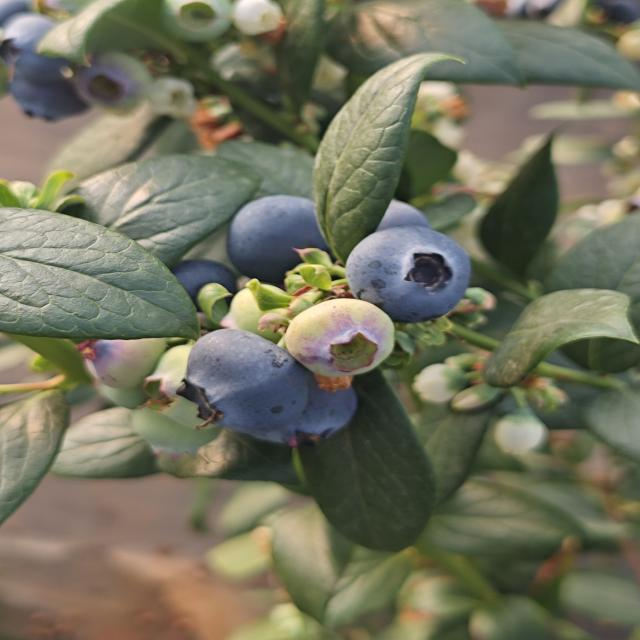ripe: (179, 324, 315, 441), (342, 223, 473, 324), (0, 0, 99, 121), (246, 347, 358, 447), (224, 193, 330, 285), (149, 247, 241, 317), (361, 189, 442, 233)
